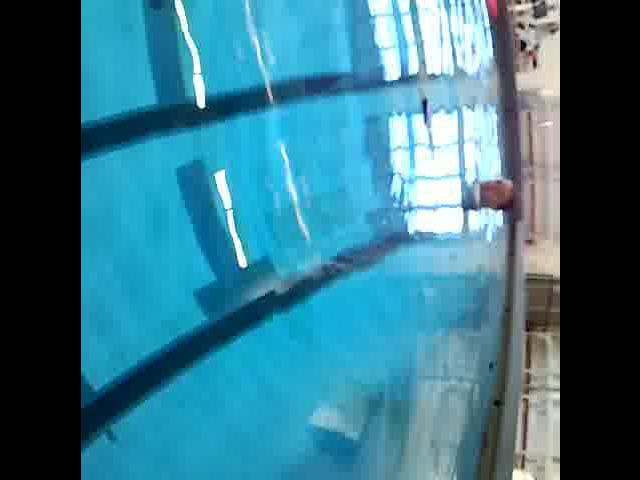CamMount: (416, 95, 438, 130)
